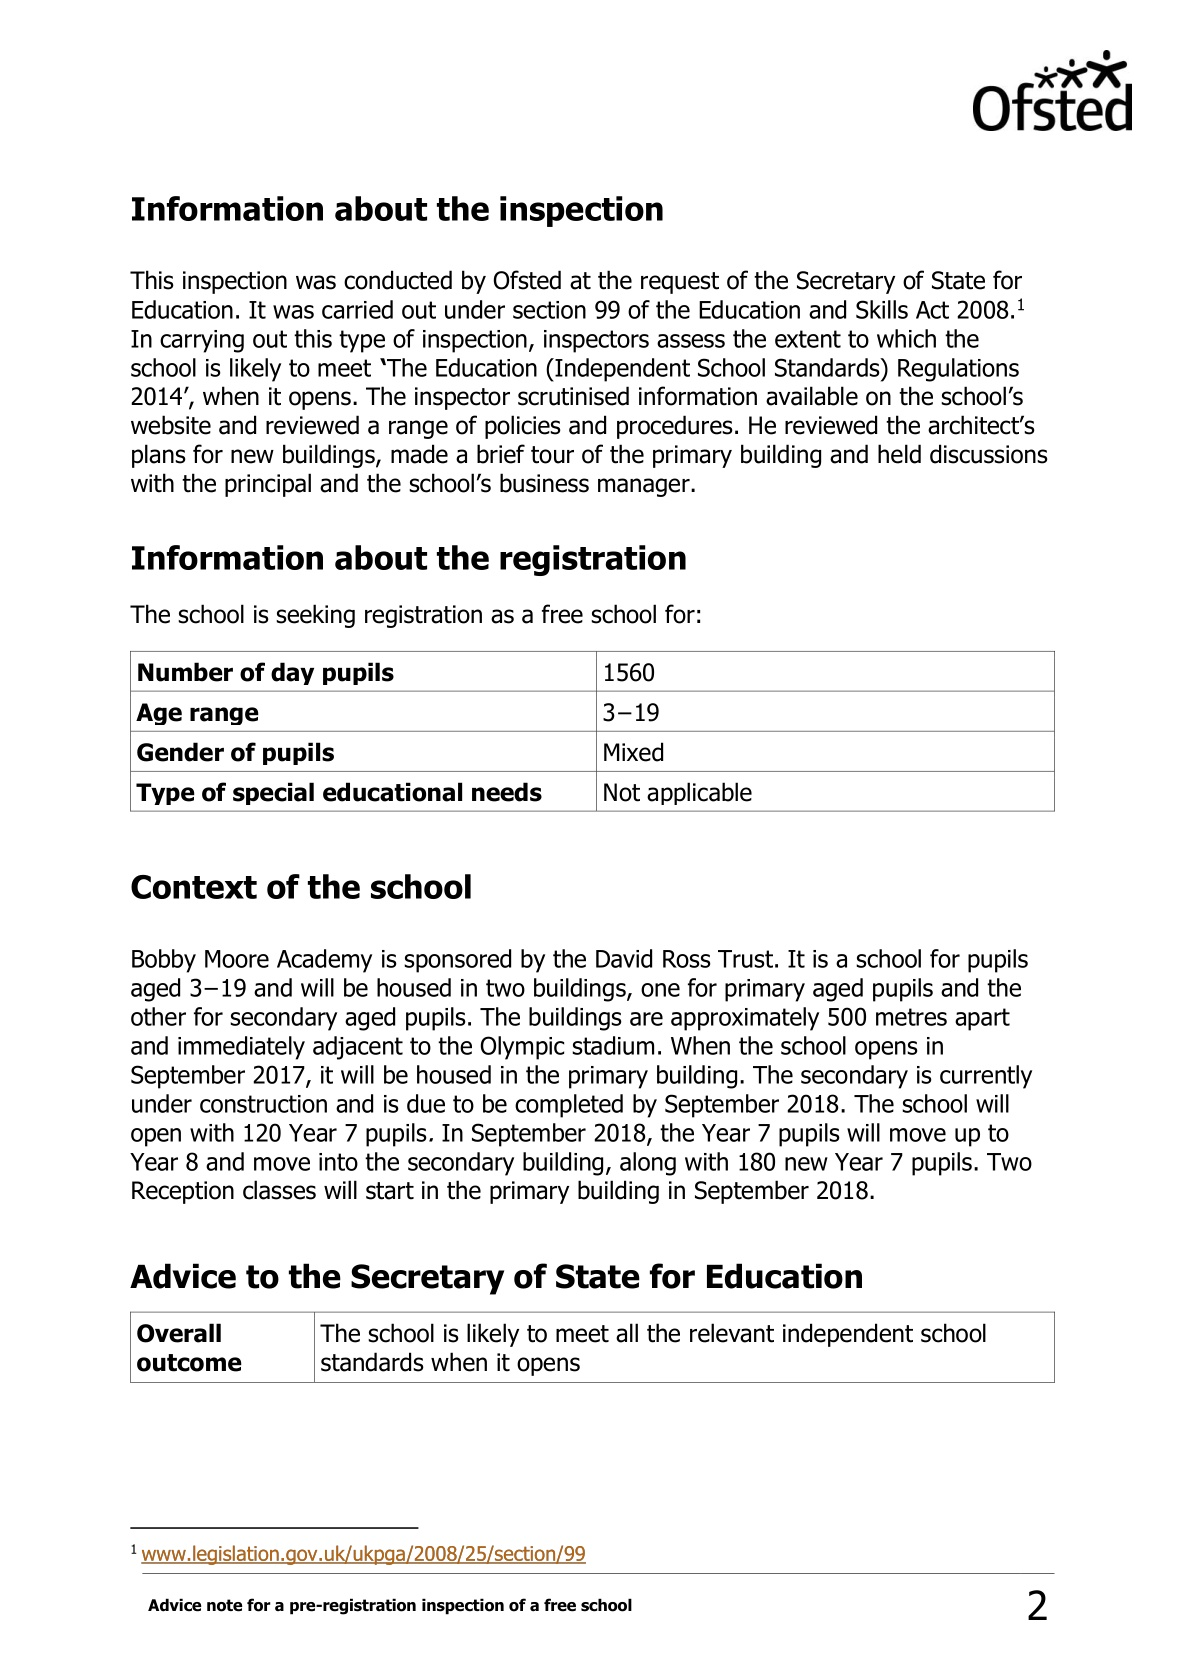full_lined: (127, 647, 1058, 818), (127, 1309, 1058, 1381)
